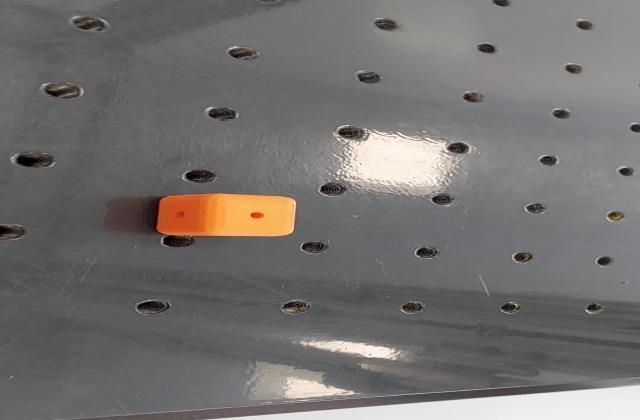cube: (148, 193, 304, 240)
